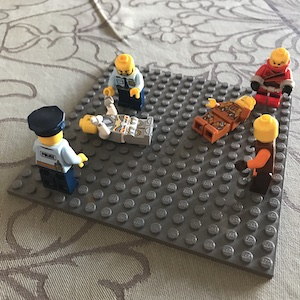Lego: (26, 105, 87, 191), (80, 102, 154, 149), (238, 114, 283, 191), (191, 93, 258, 143), (101, 53, 146, 111), (249, 47, 293, 106)
